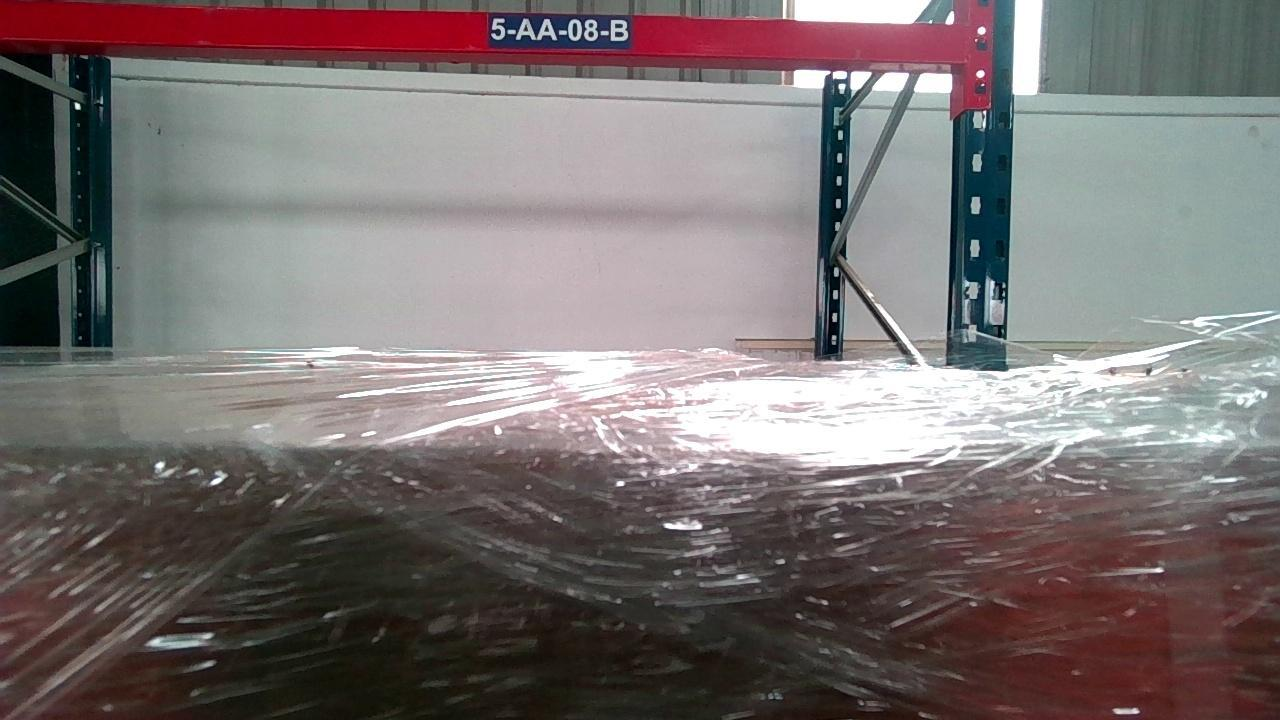h_rack: (0, 2, 960, 60)
